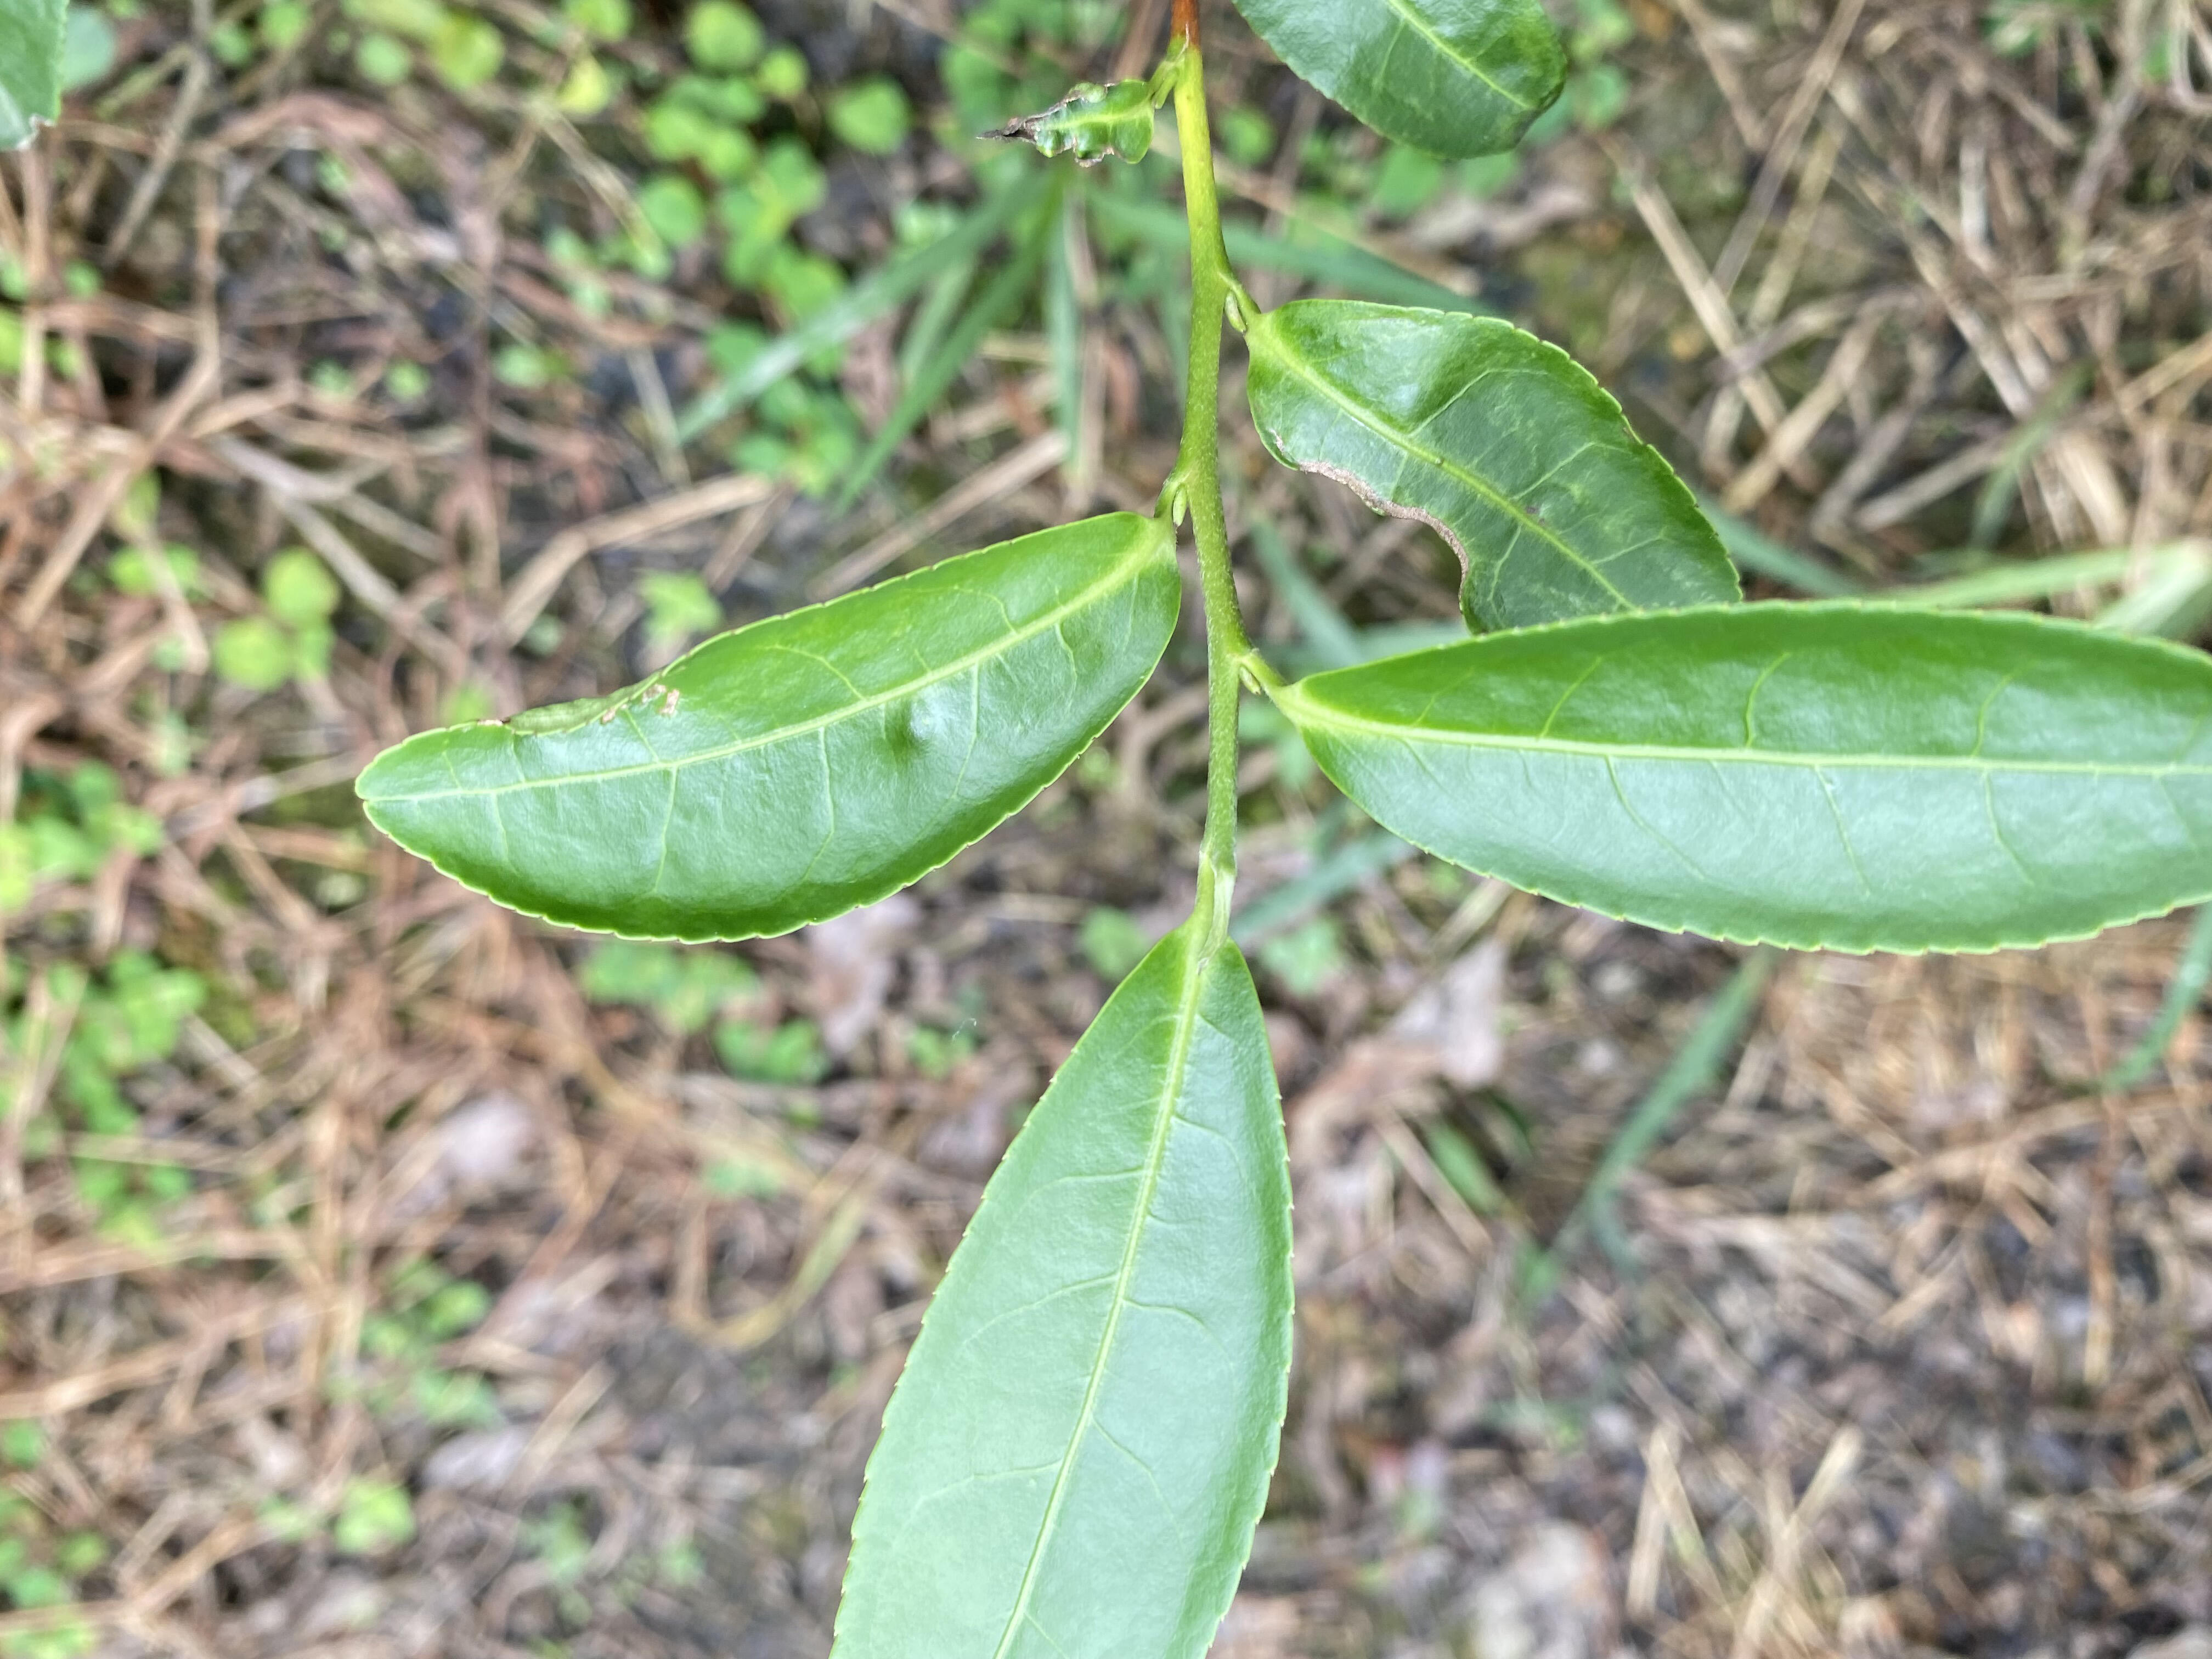chihuo_high: (975, 75, 1155, 169)
chihuo_low: (1240, 301, 1740, 638)
healthy: (822, 929, 1301, 1659), (1291, 601, 2209, 958)
tanju_low: (352, 507, 1184, 948)
